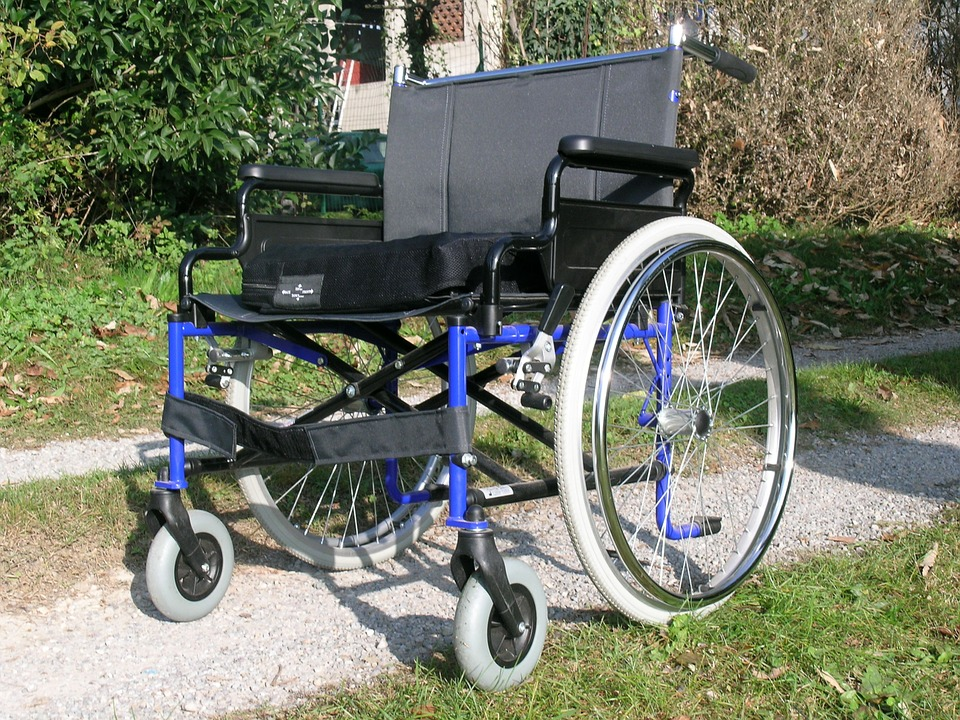wheelchair: (122, 29, 805, 689)
